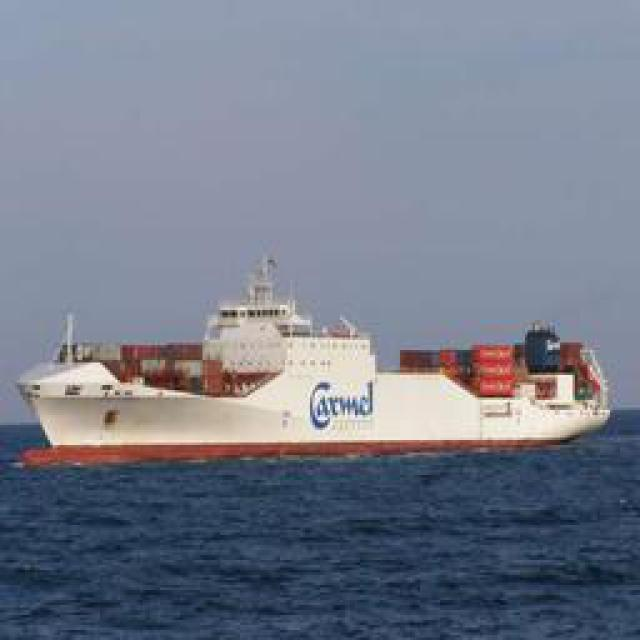Ship: (19, 262, 624, 460)
